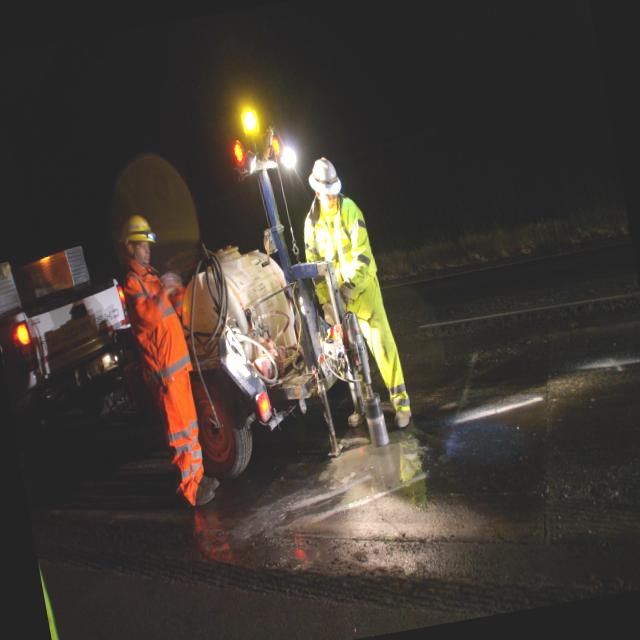helmet: (118, 211, 155, 252), (305, 155, 342, 193)
vest: (124, 260, 198, 400), (298, 198, 381, 315)
